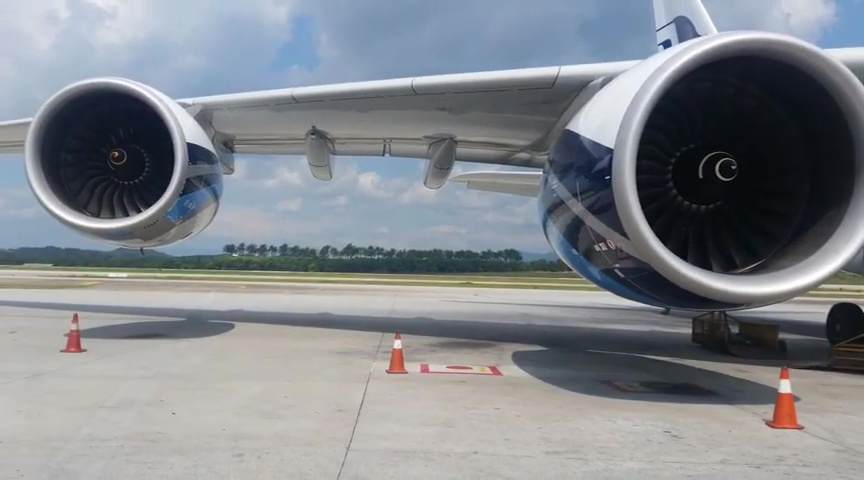safety_cone: (764, 366, 806, 431), (58, 312, 87, 355), (384, 331, 409, 375)
